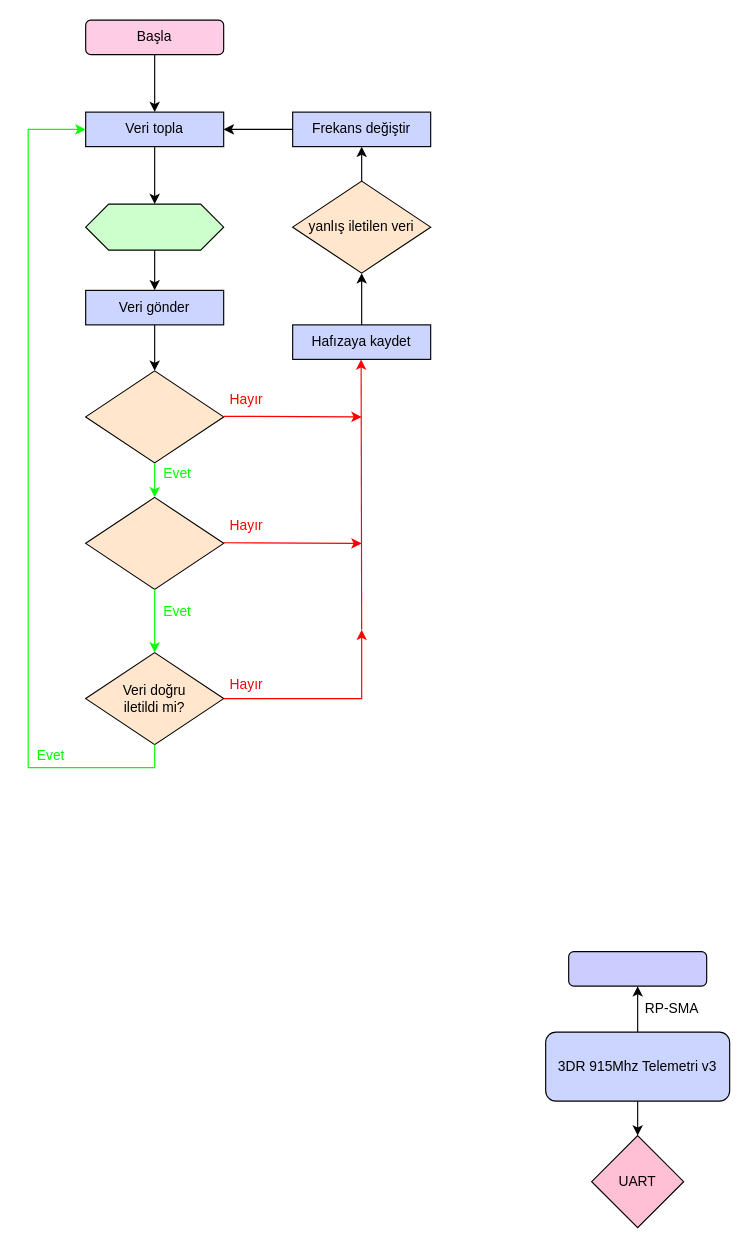
This 750x1248 diagram has some shape labels left out. The shapes that lost their labels are listed below. From the top down, each one's centre as x and y in pixels, then its label:
At point (154, 226): "Filtreleme".
At point (154, 416): "Veri geldi mi?".
At point (154, 542): "Veri doğru mu?".
At point (637, 968): "Dipol anten".
